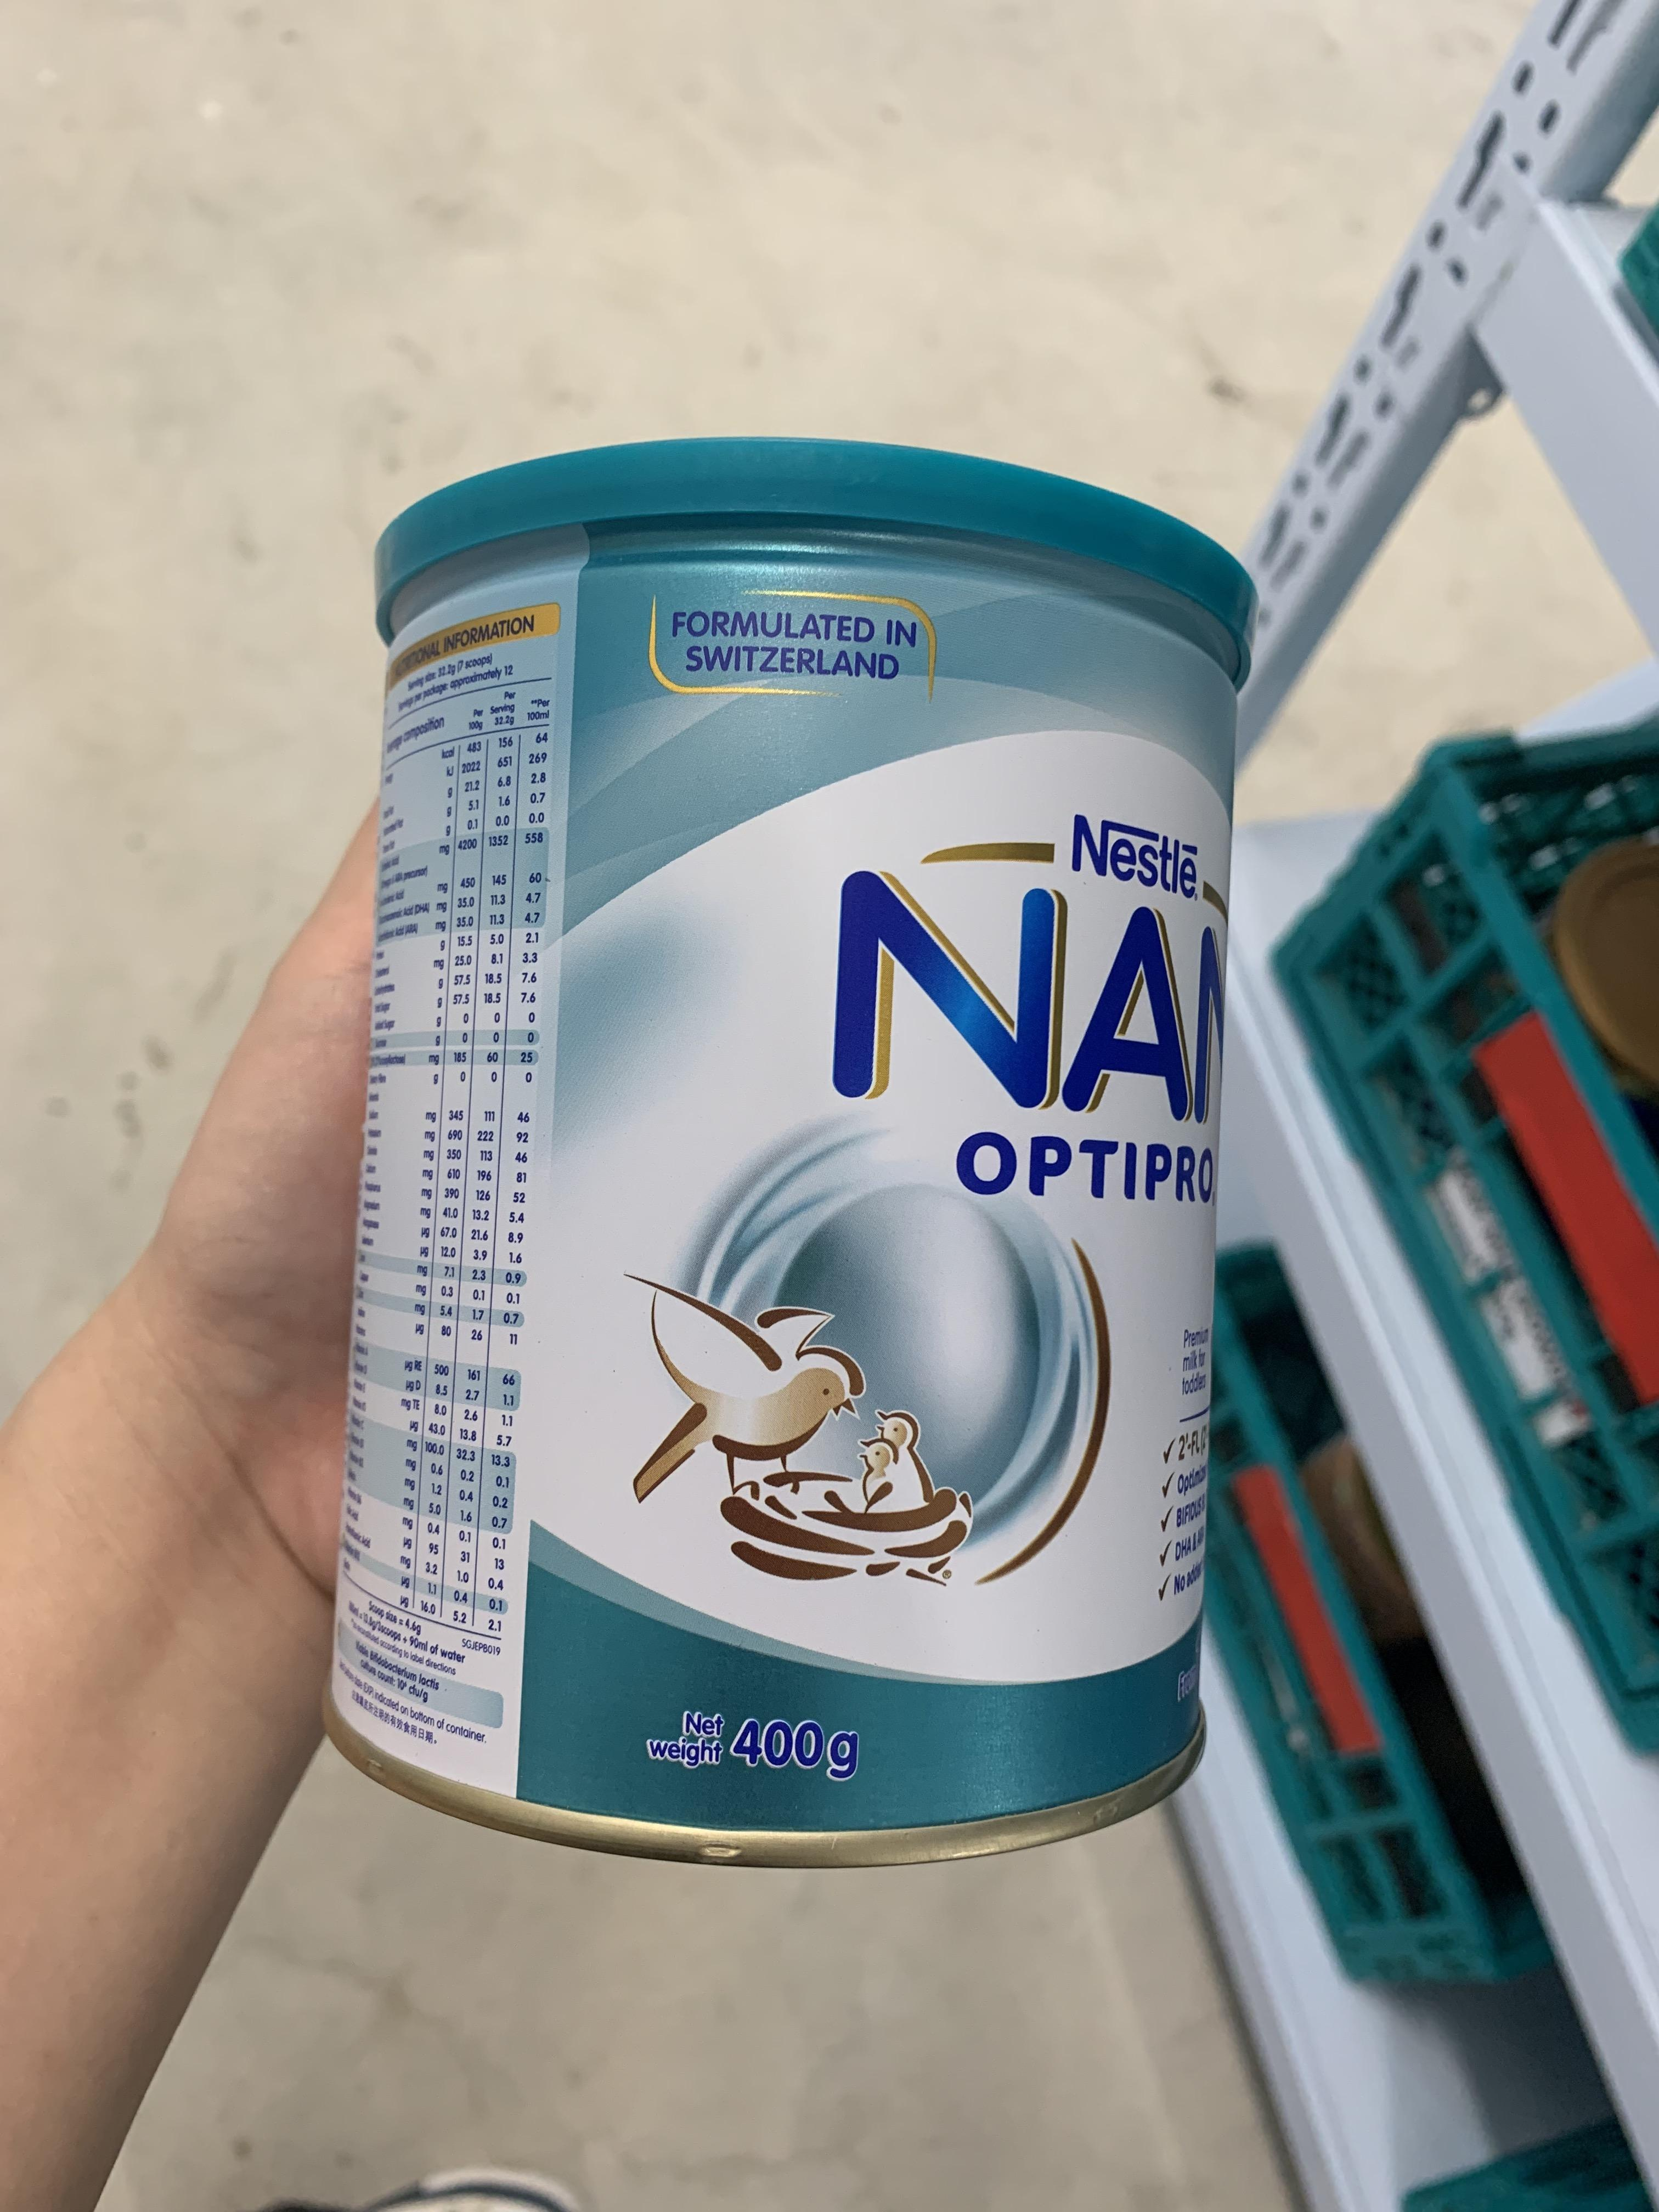object_name: (410, 543, 1175, 1780)
